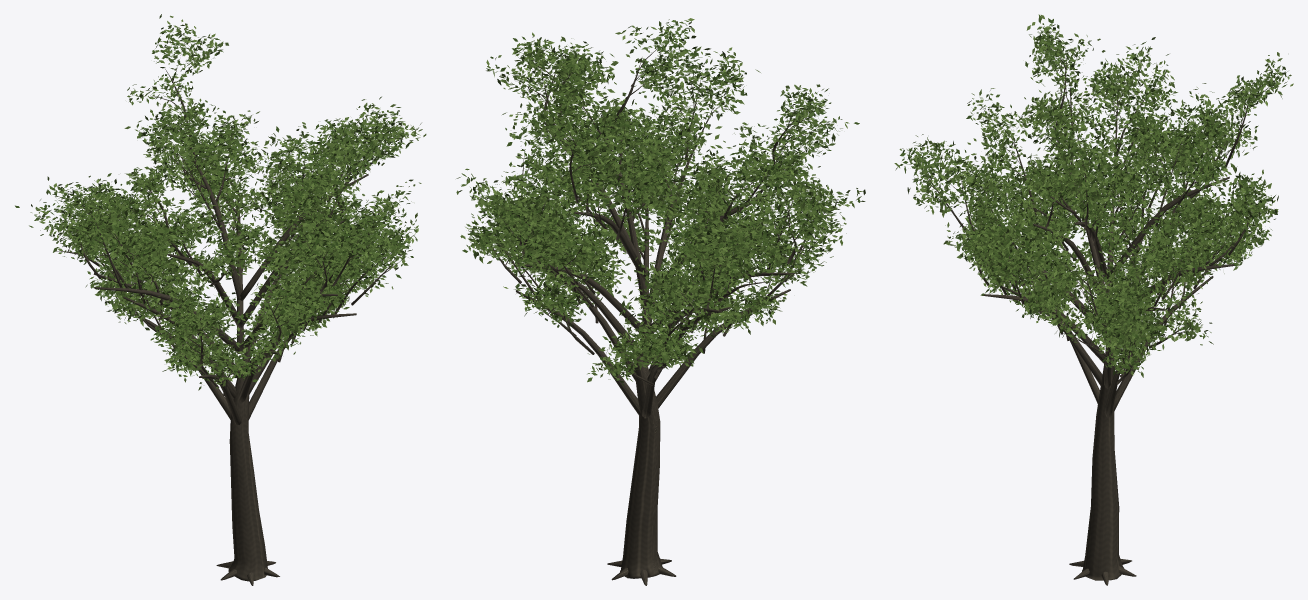
The picture shows the model from 3 angles, left to right: view 1: azimuth 30°, elevation 25°; view 2: azimuth 150°, elevation 25°; view 3: azimuth 270°, elevation 25°; orthographic projection. The views are drawn at different scales.
Visible parts, largest first — view 1: T-B; view 2: T-B; view 3: T-B.
Part boxes in pixels (x1,y1,x2,y2): T-B: (15,14,426,585); T-B: (456,18,865,585); T-B: (894,14,1293,585).
Size of the model in its own units: 7.1 by 9.51 by 6.6.
Materials: 9 (1 with a texture image).
